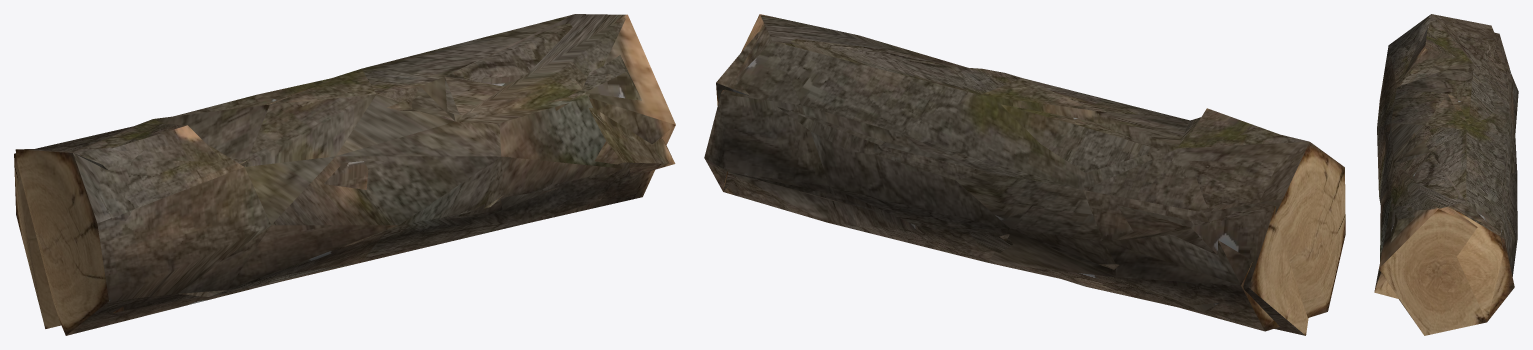
3 renders of one model, left to right at view 1: azimuth 30°, elevation 25°; view 2: azimuth 150°, elevation 25°; view 3: azimuth 270°, elevation 25°, orthographic. The views are drawn at different scales.
Visible parts, largest first — view 1: firewood-log.002; view 2: firewood-log.002; view 3: firewood-log.002.
Boxes of the visible parts, x1,y1,x2,y2 form: firewood-log.002: (14,14,675,335); firewood-log.002: (704,14,1345,335); firewood-log.002: (1374,14,1518,335).
Size of the model in its own units: 1.2 by 0.3728 by 0.3637.
Materials: 1 (1 with a texture image).
